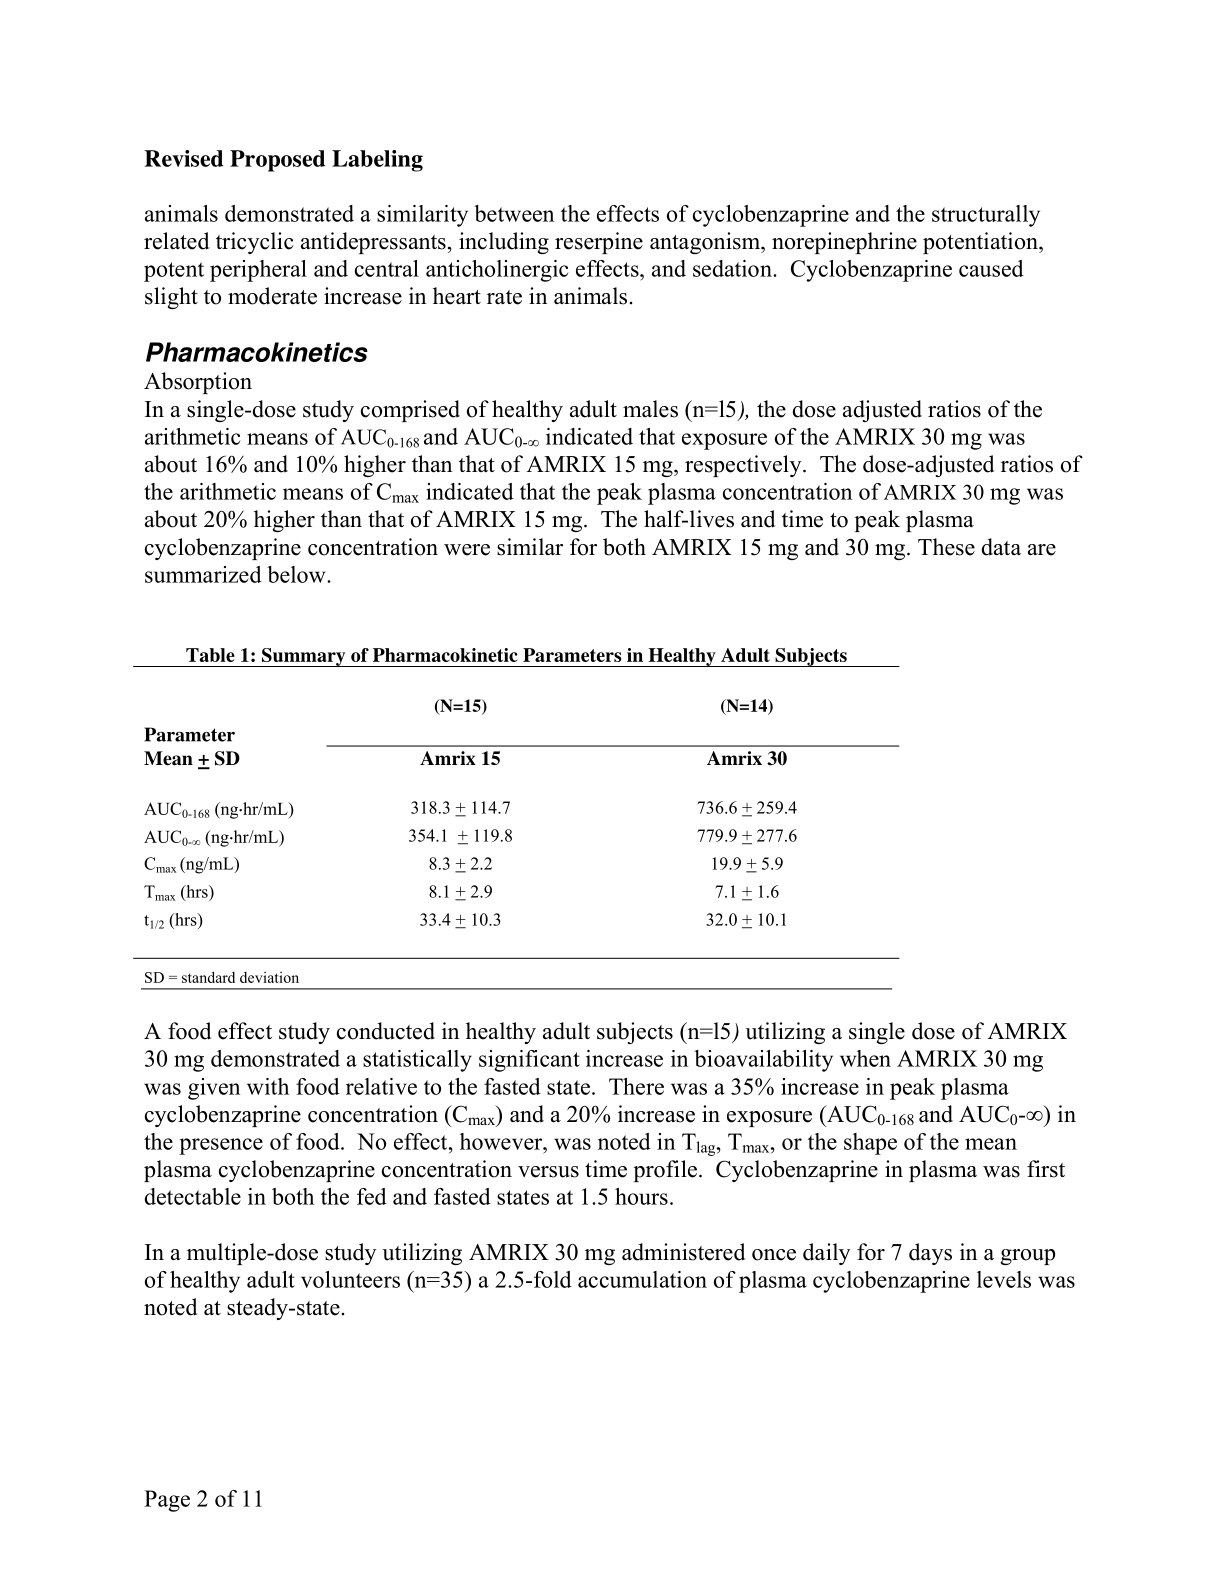partial_lined: (132, 662, 904, 959)
